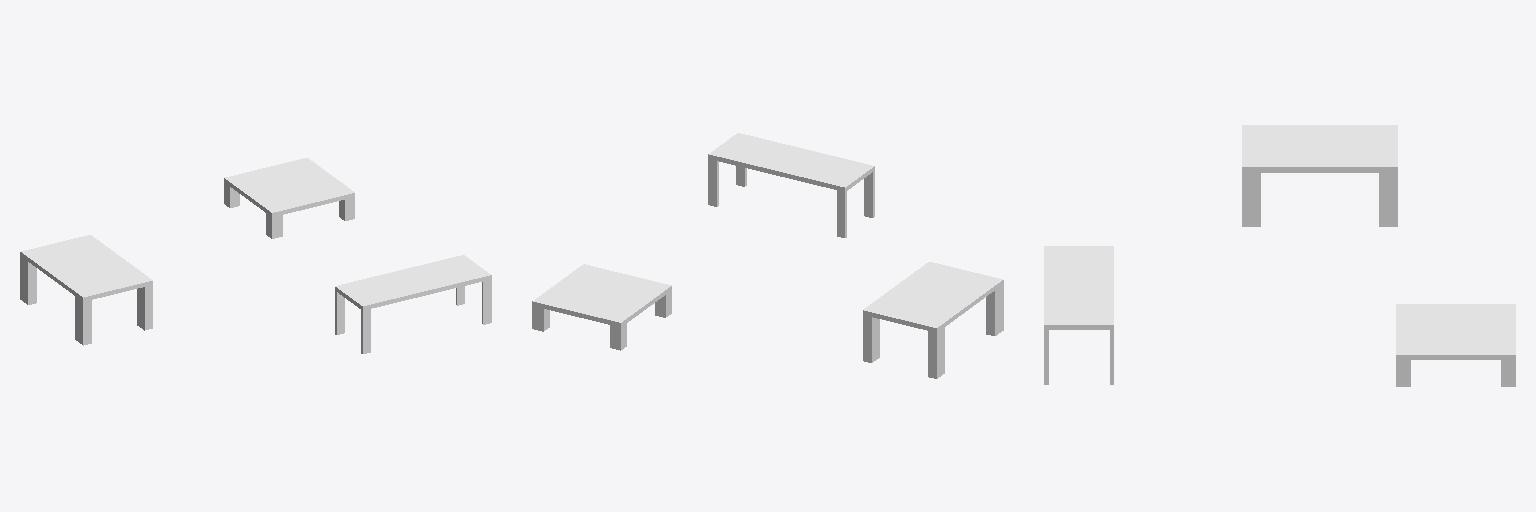
The robot description file, URDF, robot "cube.urdf":
<?xml version="0.0" ?>
<robot name="cube.urdf">
  <link concave="yes" name="baseLink">
    <inertial>
      <origin rpy="0 0 0" xyz="0 0 0"/>
       <mass value=".0"/>
       <inertia ixx="0" ixy="0" ixz="0" iyy="0" iyz="0" izz="0"/>
    </inertial>
    <visual>
      <origin rpy="1.5707963 0 0" xyz="0 0 0"/>
      <geometry>
				<mesh filename="tables.obj" scale="1 1 1"/>
      </geometry>
       <material name="white">
        <color rgba="1 1 1 1"/>
      </material>
    </visual>
    <collision concave="yes">
      <origin rpy="1.5707963 0 0" xyz="0 0 0"/>
     <geometry>
				<mesh filename="tables.obj" scale="1 1 1"/>
      </geometry>
    </collision>
  </link>
</robot>

--- What the picture shows (computed from the rendered views, not written in the file) ---
The picture shows the robot from 3 angles, left to right: view 1: azimuth 30°, elevation 25°; view 2: azimuth 150°, elevation 25°; view 3: azimuth 270°, elevation 25°; orthographic projection.
Model cube.urdf with 1 links and 0 joints (none), rooted at baseLink, posed all joints at 0.
Links seen in each view (by area): view 1: baseLink; view 2: baseLink; view 3: baseLink.
Link boxes in pixels (x1,y1,x2,y2): baseLink: [20, 158, 491, 353]; baseLink: [532, 133, 1003, 378]; baseLink: [1044, 125, 1515, 386].
Size in the robot's own frame: 8.01 by 7.85 by 1.1 metres.
Meshes: 1 distinct files referenced, 1 mesh visuals loaded (1 OBJ).